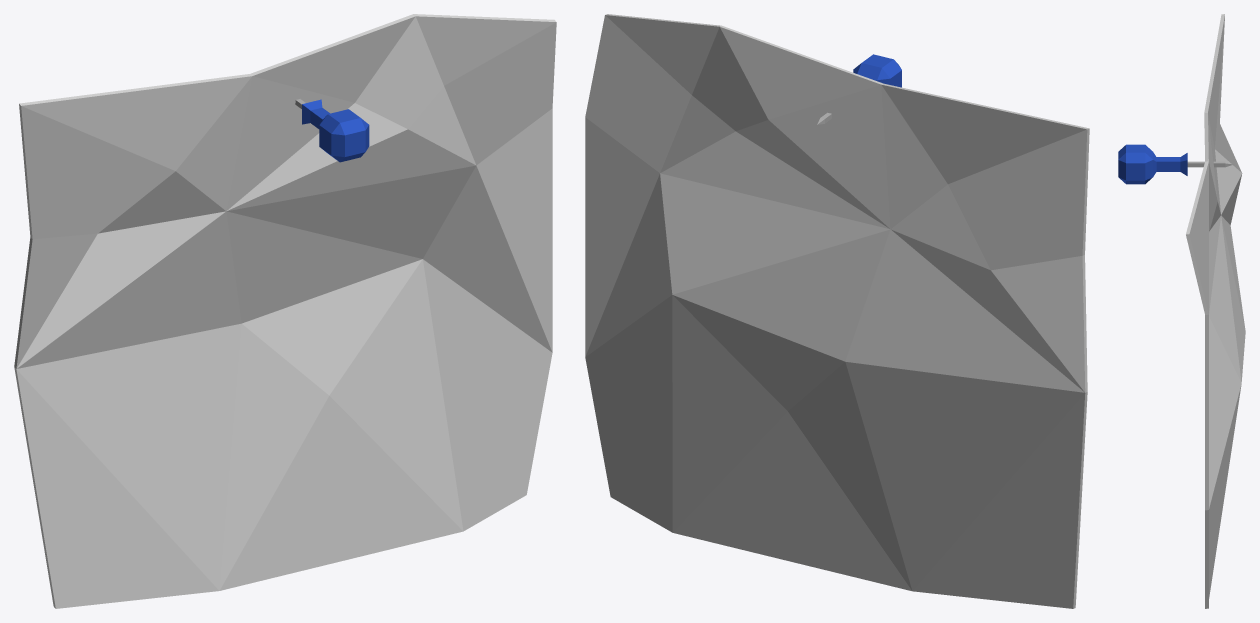
Rendered from Paper Letter A.fbx.
3 views of the same model, side by side, from view 1: azimuth 30°, elevation 25°; view 2: azimuth 150°, elevation 25°; view 3: azimuth 270°, elevation 25° (orthographic). The views are drawn at different scales.
Parts seen in each view (by area): view 1: Papier, Punaise; view 2: Papier, Punaise; view 3: Papier, Punaise.
Part boxes in pixels (bbox=[...]): Papier: bbox=[14, 14, 556, 608]; Punaise: bbox=[295, 99, 369, 162]; Papier: bbox=[585, 14, 1089, 608]; Punaise: bbox=[817, 54, 901, 124]; Papier: bbox=[1186, 14, 1245, 608]; Punaise: bbox=[1118, 144, 1233, 184].
Size of the model in its own units: 208 by 200 by 54.89.
